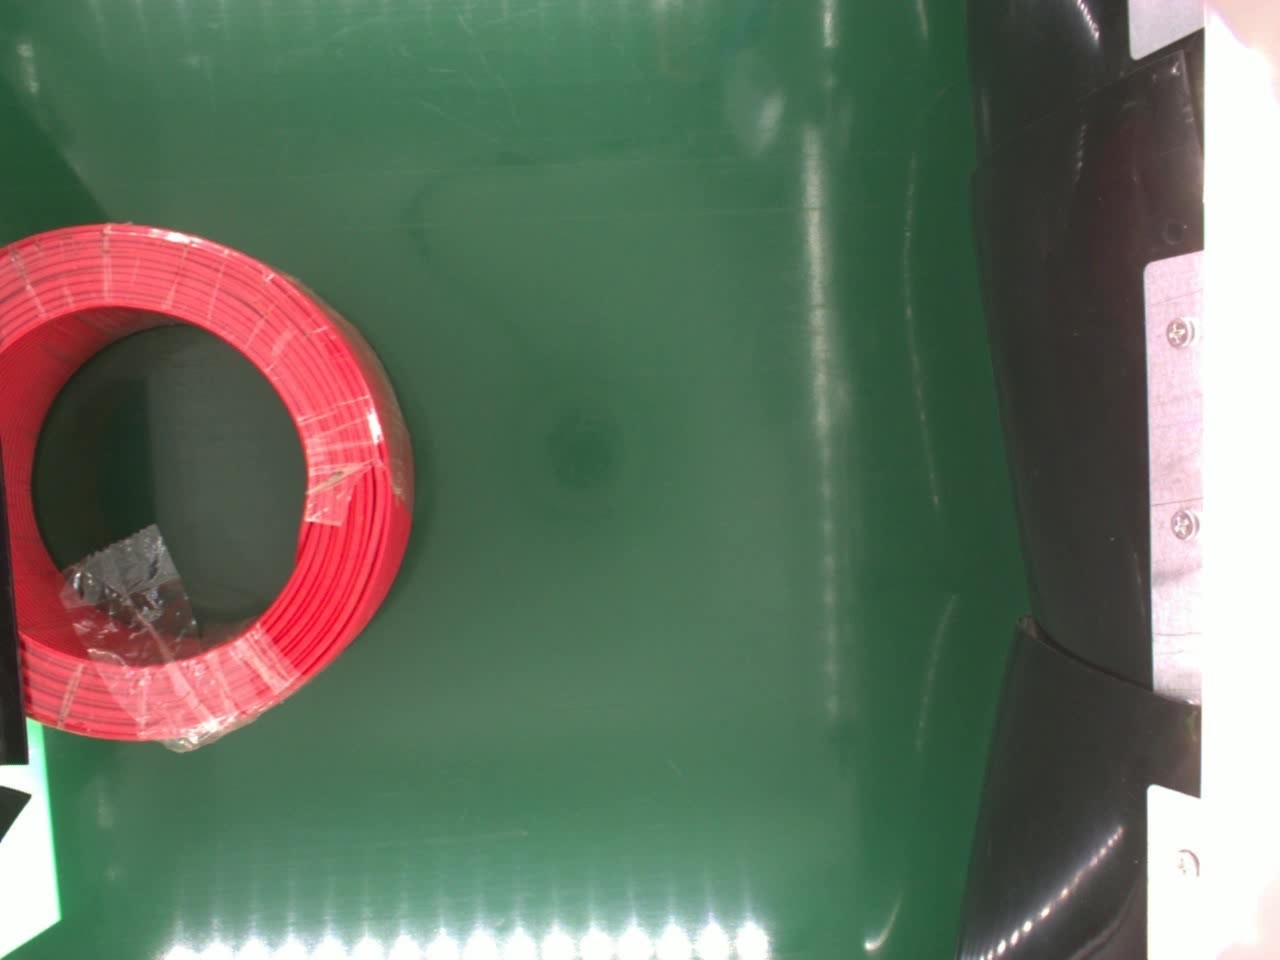red: (0, 221, 414, 747)
